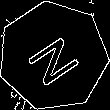N_NE: (21, 25, 86, 87)
